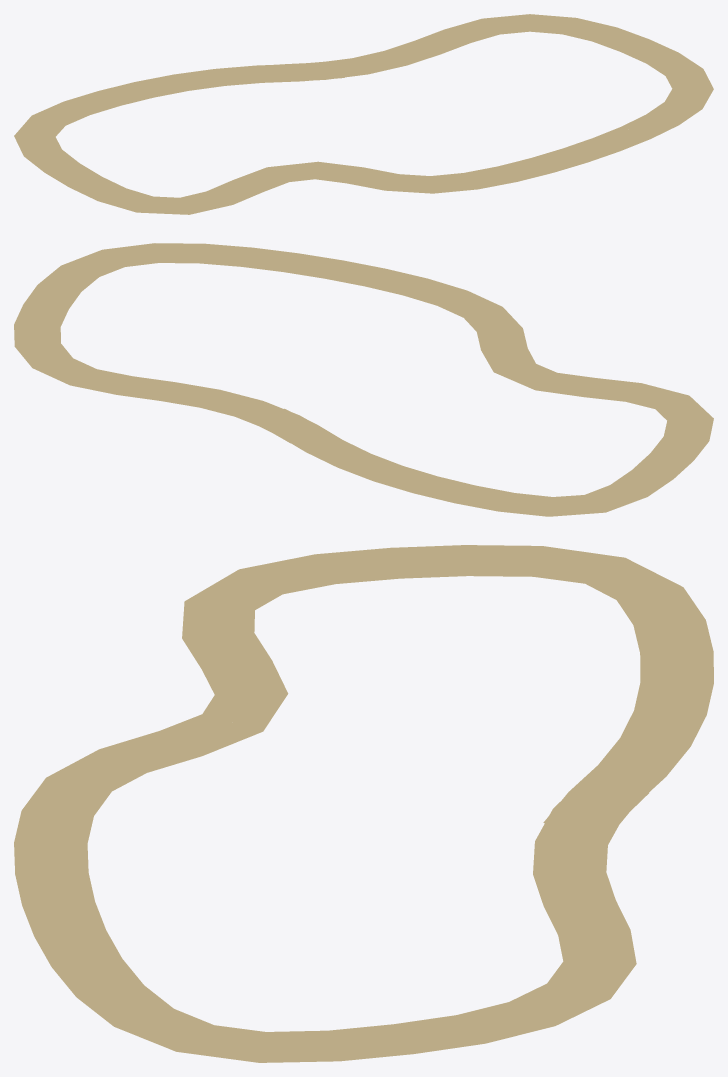
File: path.glb
3 renders of one model, top to bottom at view 1: azimuth 30°, elevation 25°; view 2: azimuth 150°, elevation 25°; view 3: azimuth 270°, elevation 25°, orthographic. The views are drawn at different scales.
Parts seen in each view (by area): view 1: Plane.015; view 2: Plane.015; view 3: Plane.015.
Boxes of the visible parts, x1=… form: Plane.015: x1=14, y1=14, x2=713, y2=214; Plane.015: x1=14, y1=243, x2=713, y2=516; Plane.015: x1=14, y1=545, x2=713, y2=1062.
Bounding box in the file's own units: 76.68 × 1.32e-06 × 43.79.
